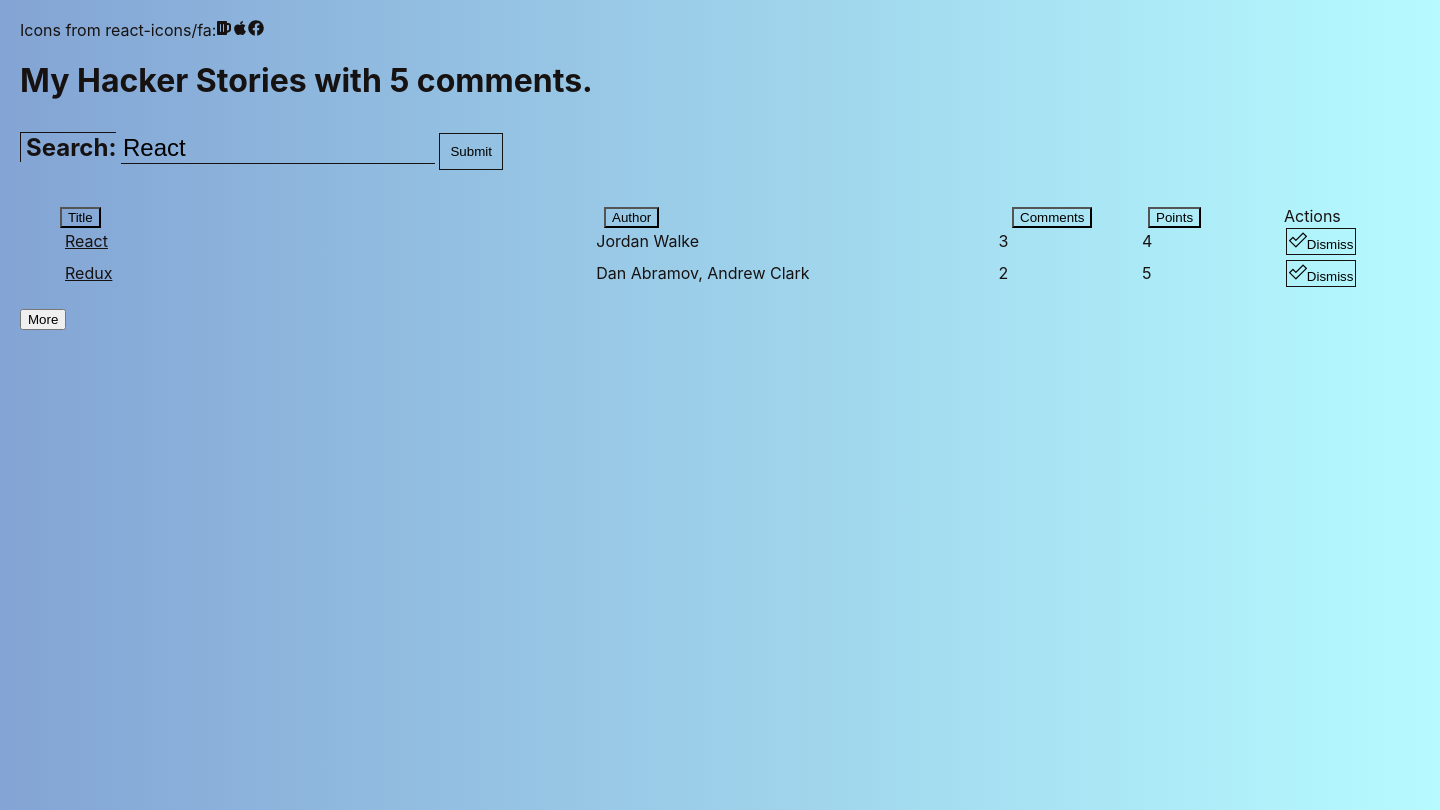
Scenario: Item › removes a story
Check: the text "Jordan Walke" is shown, box x1=596 y1=231 x2=699 y2=251
Click the button "Dismiss" in the row of "Jordan Walke".
click(1321, 241)  # box x1=1286 y1=228 x2=1356 y2=255
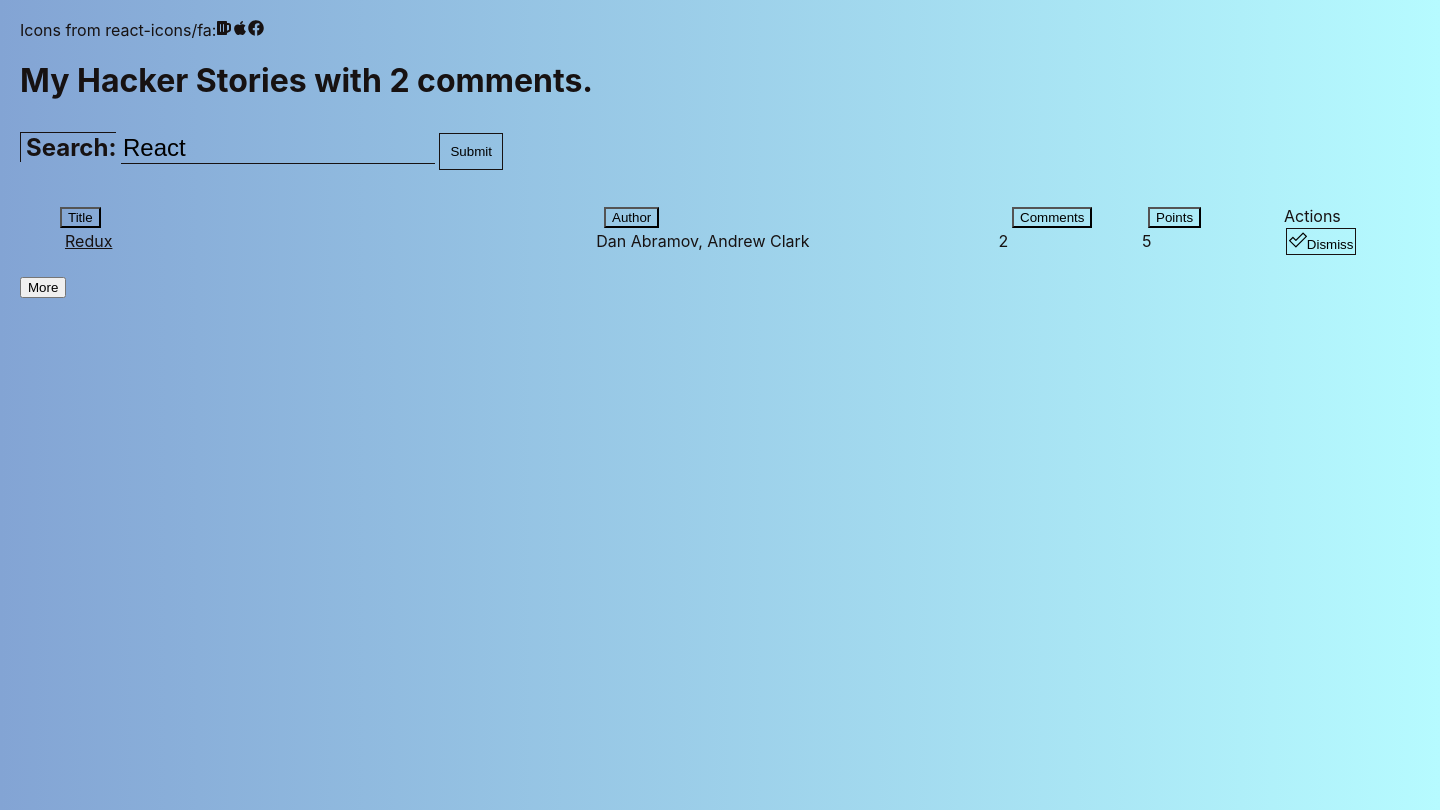
Check: the number of buttons "Dismiss" is 1, box x1=1286 y1=228 x2=1356 y2=255
Check: the text "Jordan Walke" is gone
